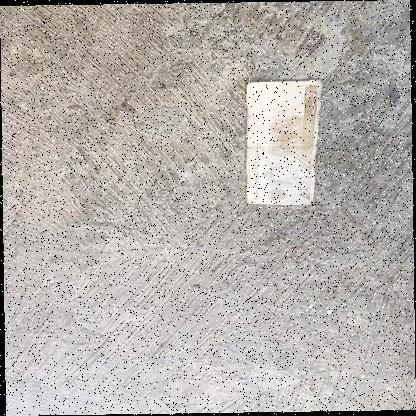five-back-vef: (245, 80, 322, 206)
